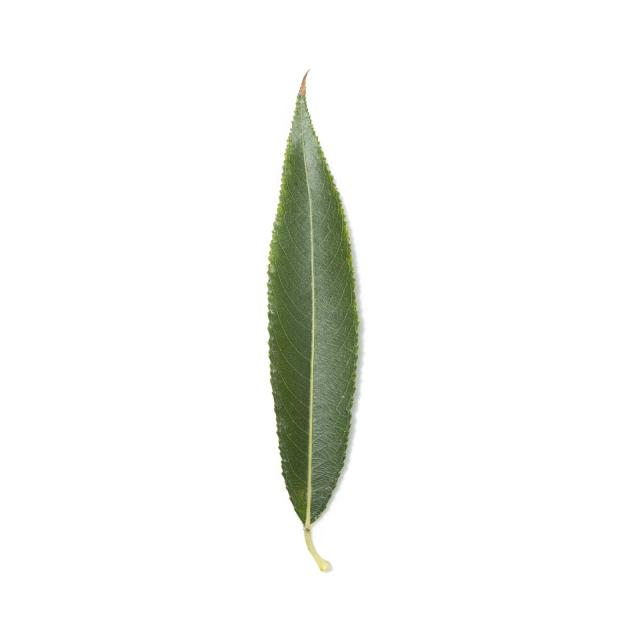Populus angustifolia: (193, 73, 456, 577)
